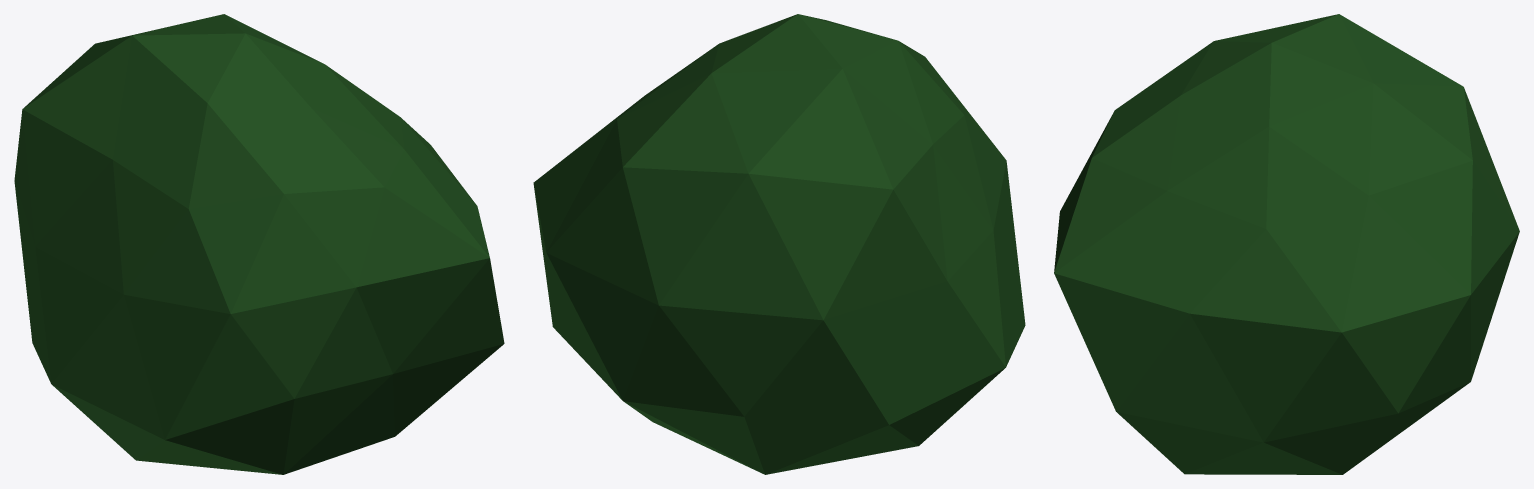
File: Arbusto.fbx
The picture shows the model from 3 angles, left to right: view 1: azimuth 30°, elevation 25°; view 2: azimuth 150°, elevation 25°; view 3: azimuth 270°, elevation 25°; orthographic projection. The views are drawn at different scales.
Parts seen in each view (by area): view 1: Icosphere; view 2: Icosphere; view 3: Icosphere.
Part boxes in pixels (left/top/right/bottom): Icosphere: left=14, top=14, right=504, bottom=474; Icosphere: left=533, top=14, right=1025, bottom=474; Icosphere: left=1054, top=14, right=1519, bottom=474.
Size of the model in its own units: 345 by 311 by 343.
1 material, 1 textured.
